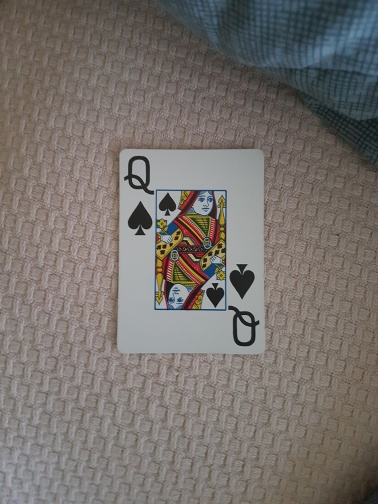queen: (118, 147, 267, 356)
